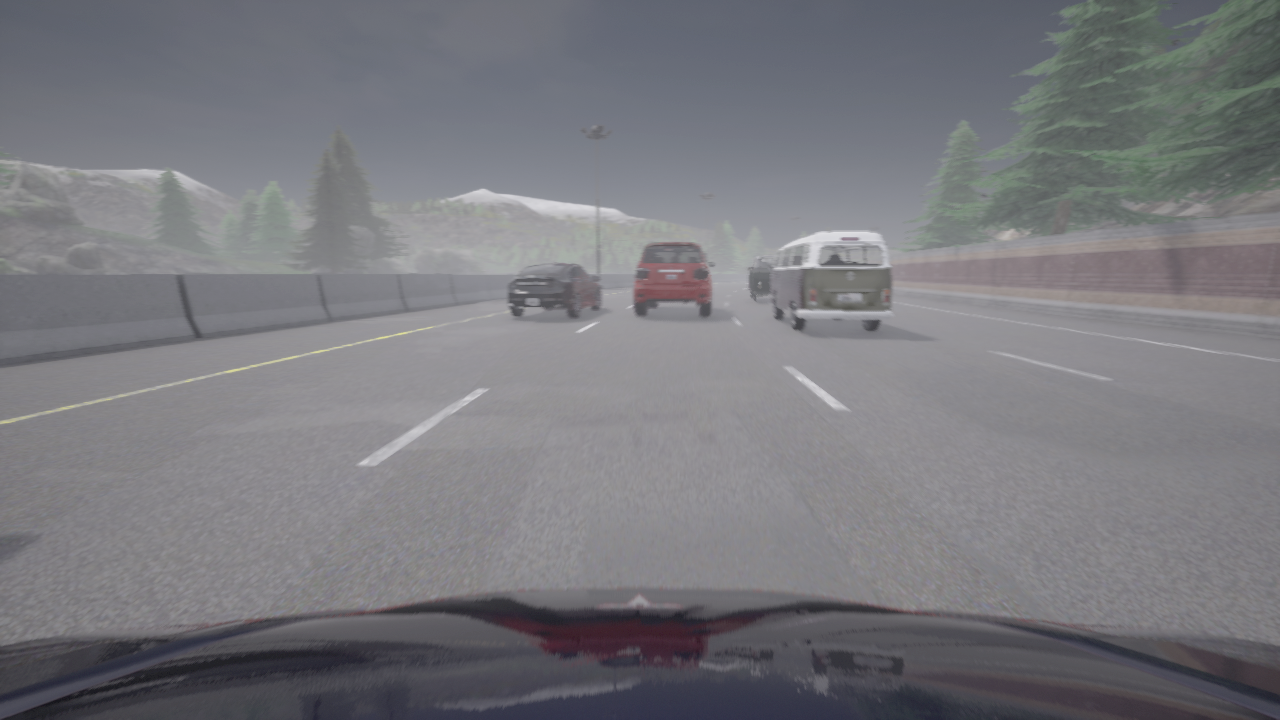cyclist: (0, 588, 1279, 719), (767, 231, 892, 331), (634, 242, 715, 316), (507, 262, 600, 317), (748, 255, 776, 301)
